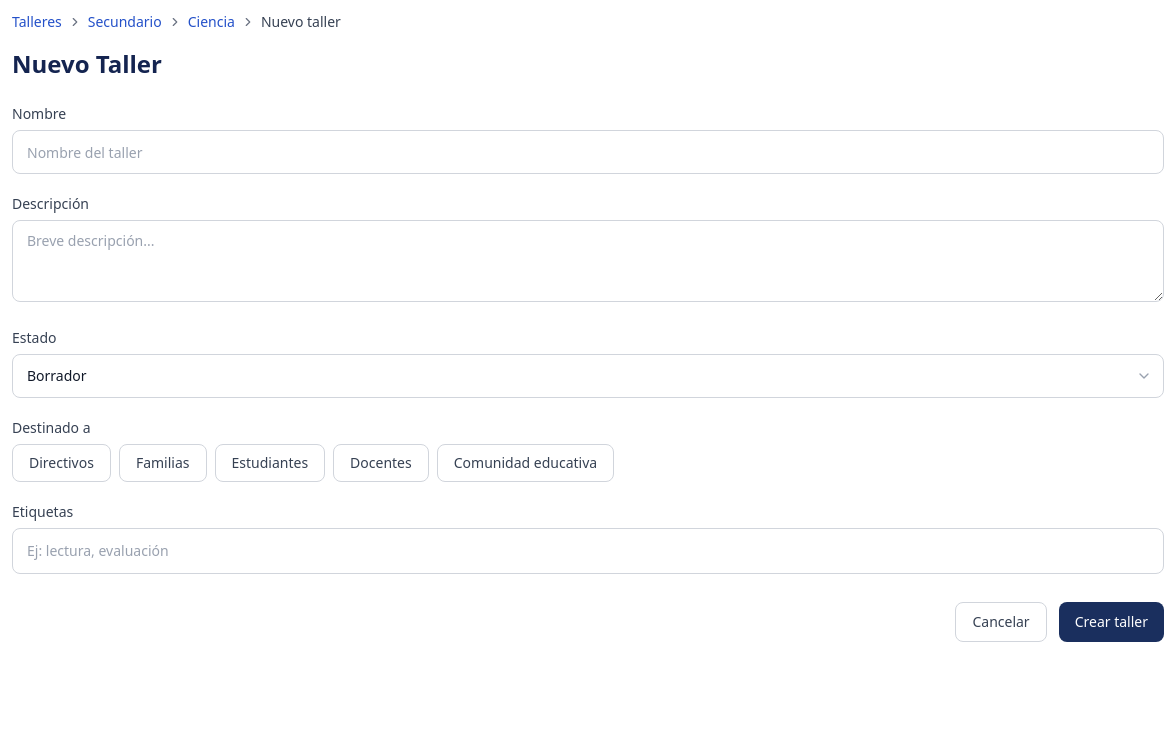
Scenario: TallerFormPage: alta › sin nombre muestra un error de validación y no guarda
Check: the heading "Nuevo Taller" is shown, box [12,47,162,80]
Type "Algo" into the text box labelled "Descripción". click: x=588, y=261
box: [12,220,1164,302]
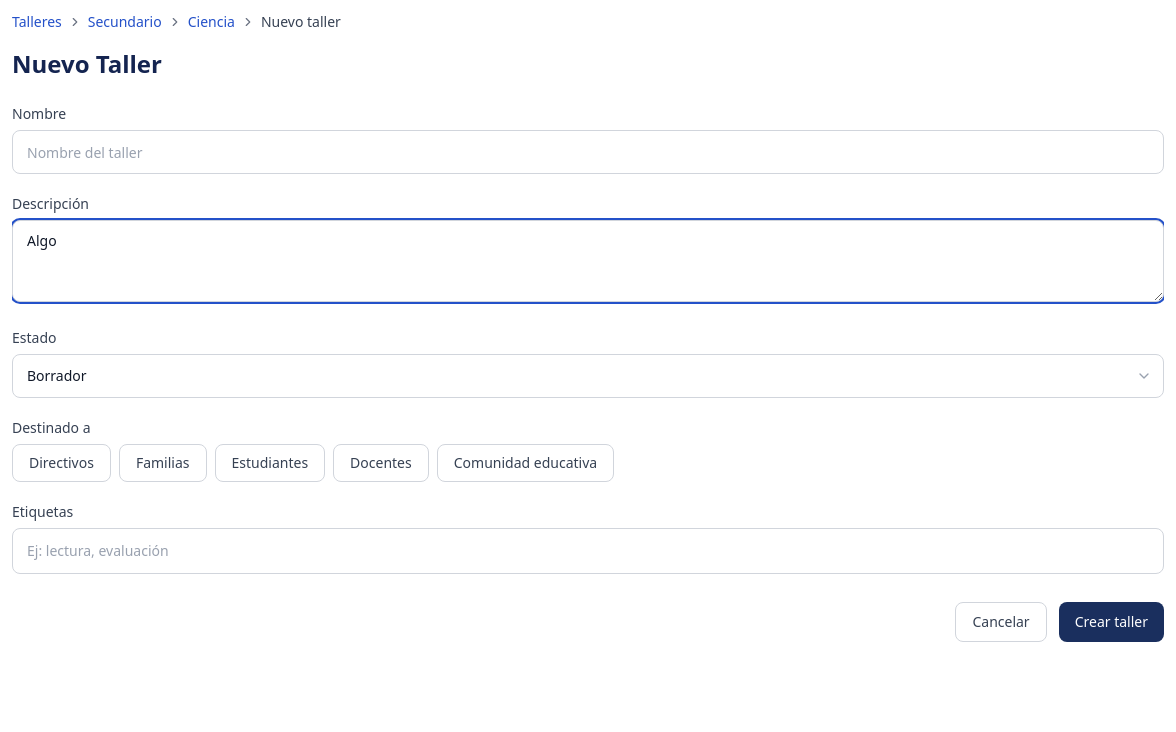
Click the button "Directivos". click: x=61, y=463
box: [12,444,111,482]
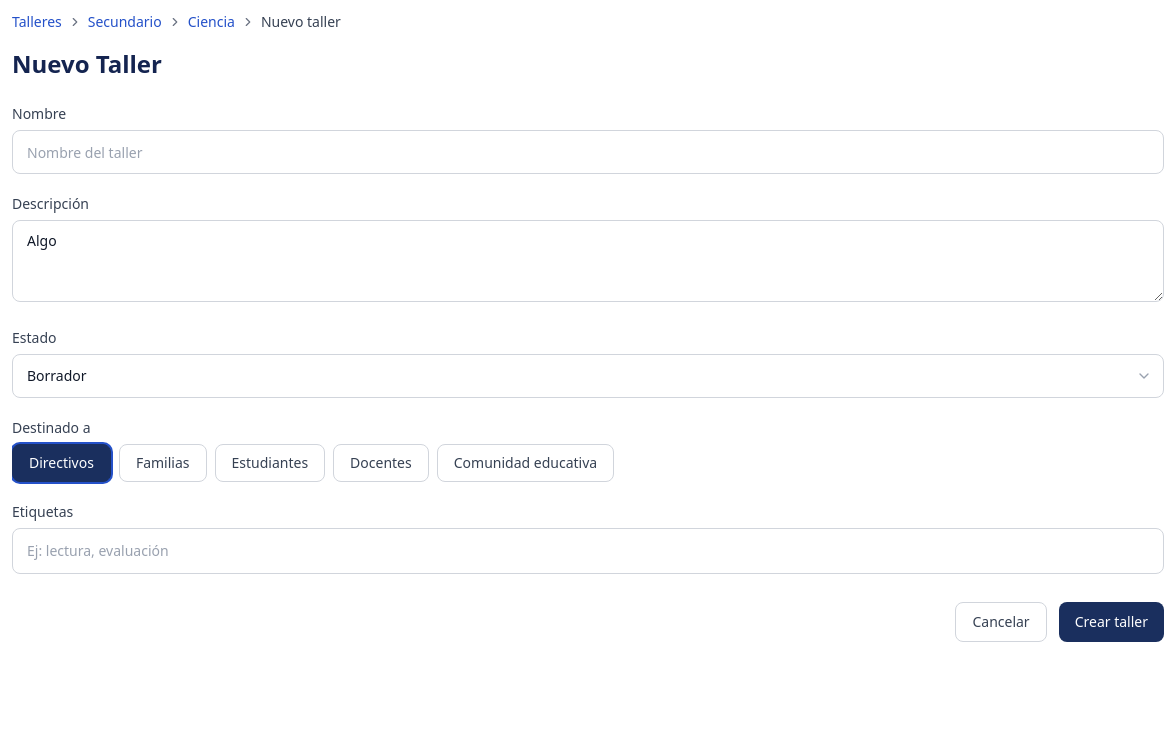
Click the button "Crear taller". click: x=1111, y=622
box: [1059,602,1164,642]
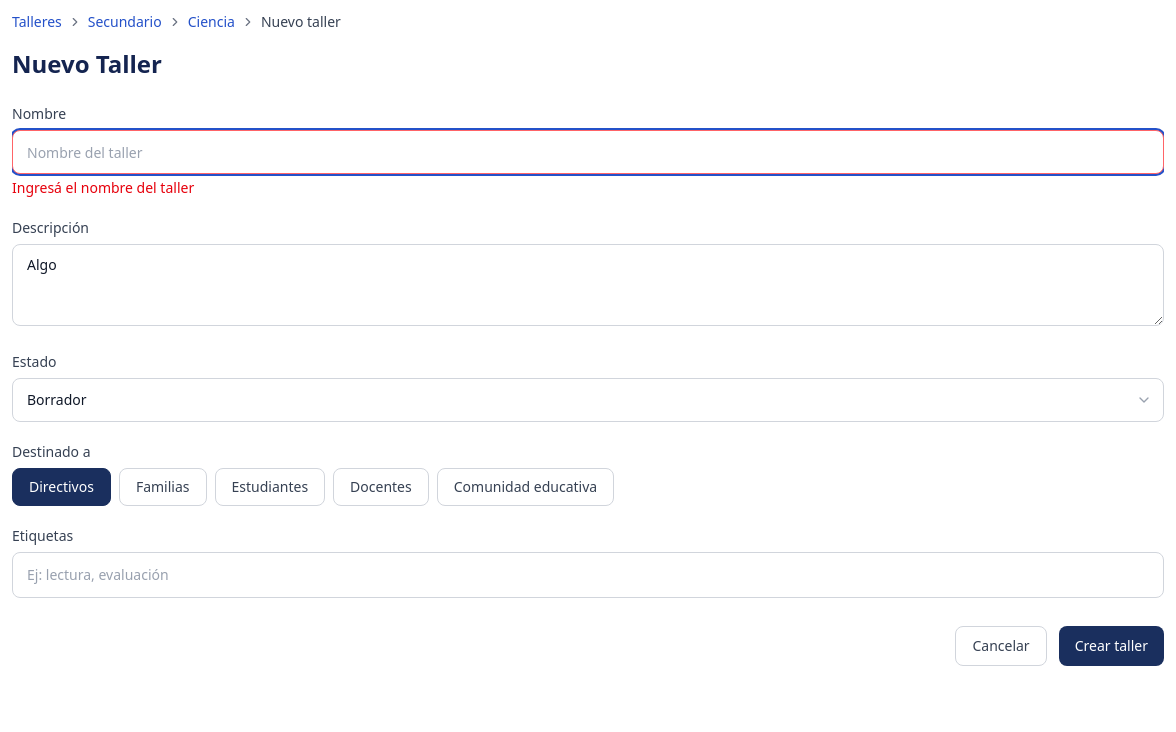
Check: the message "Ingresá el nombre del taller" is shown, box [12,178,194,197]
